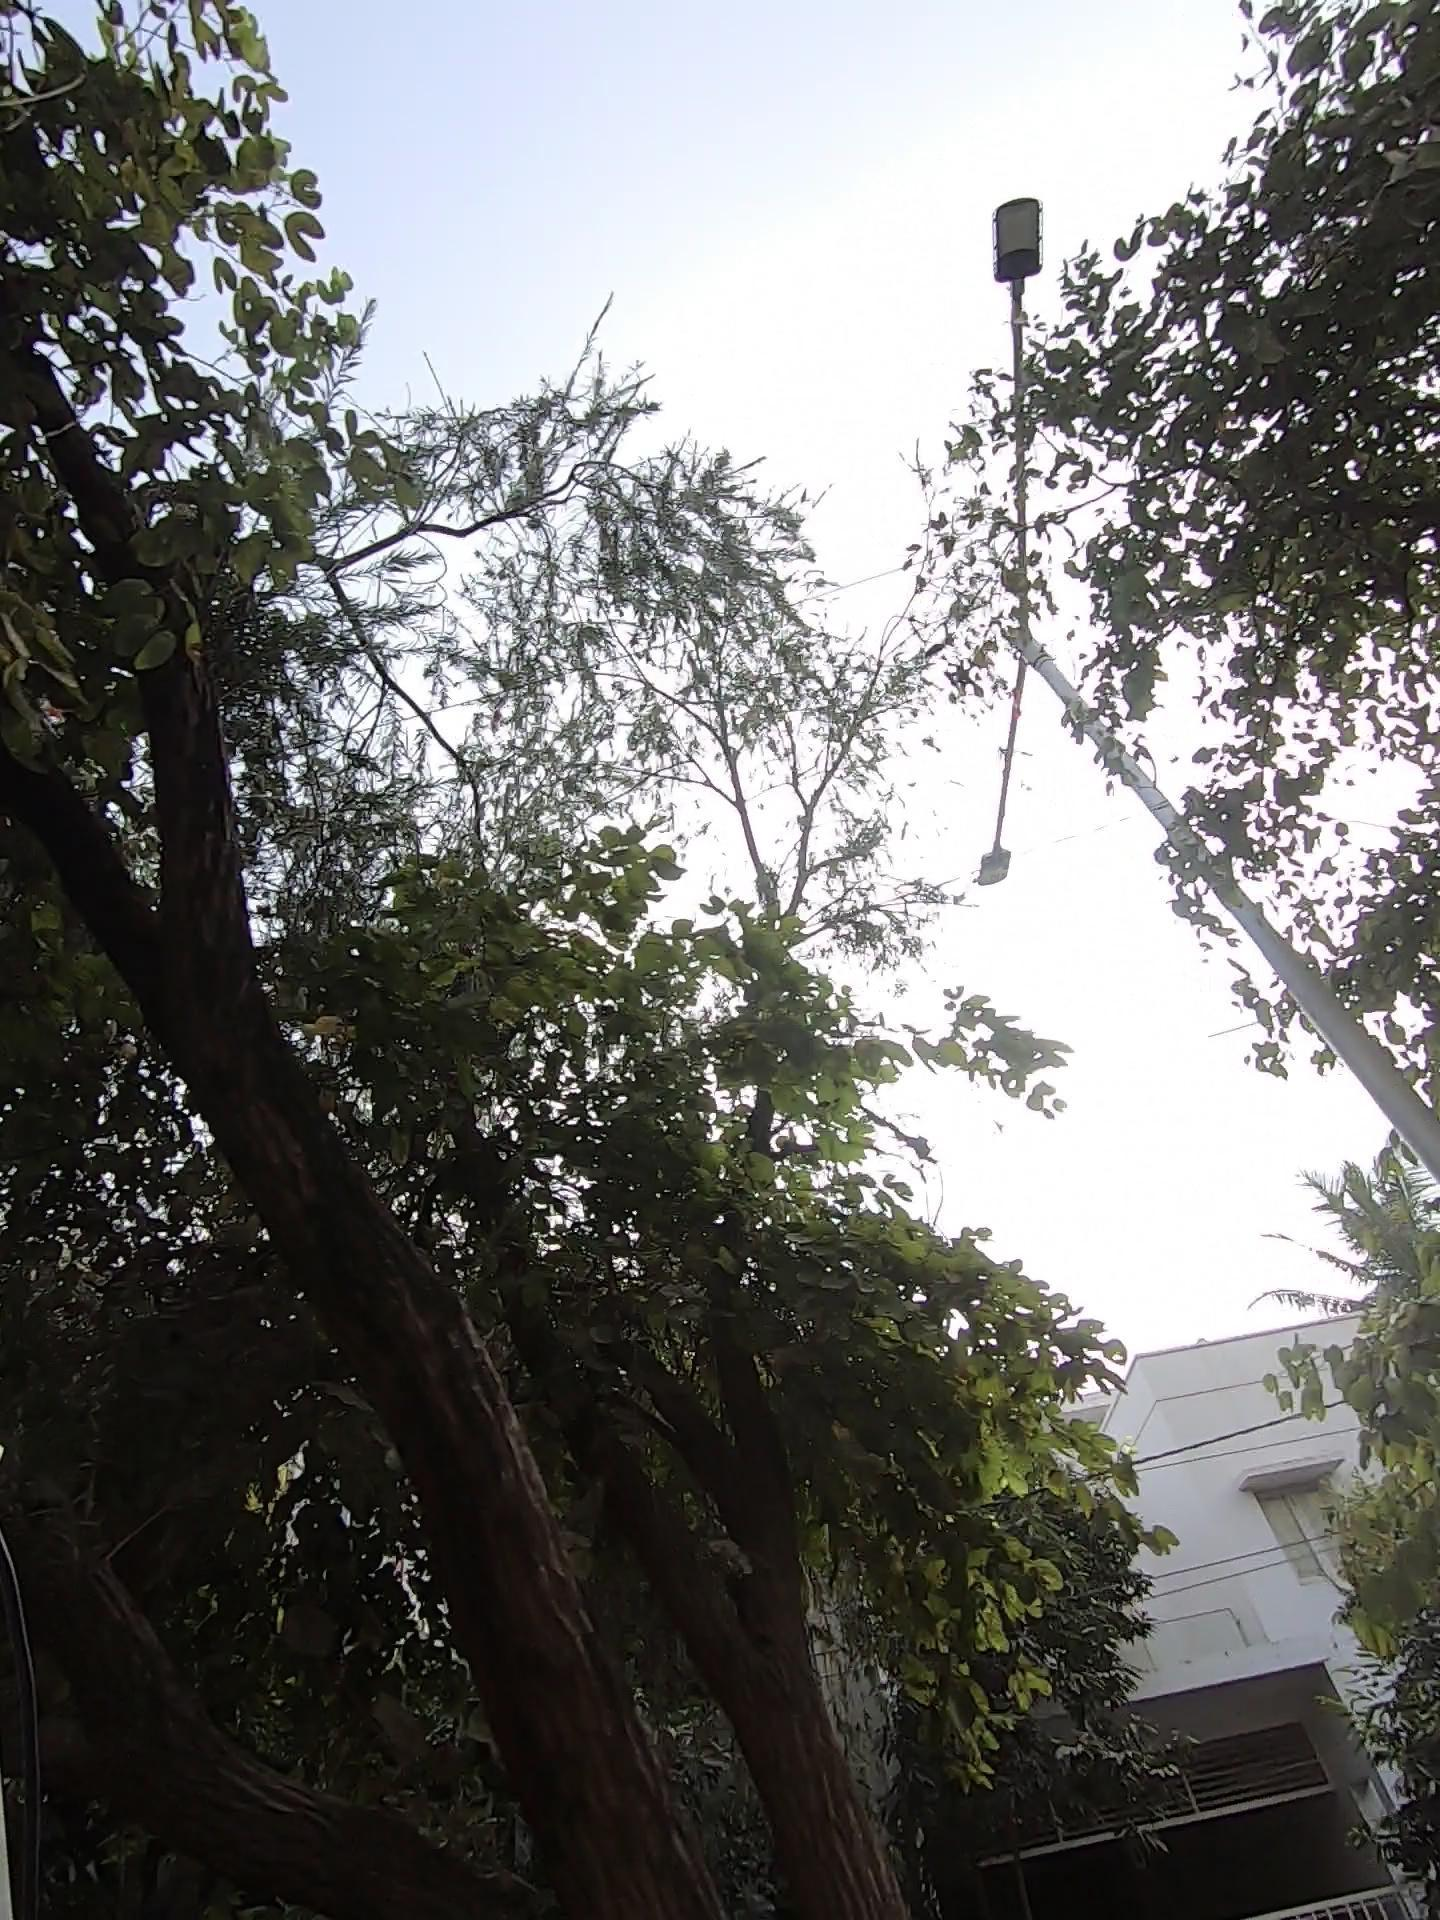off: (870, 156, 1115, 907)
